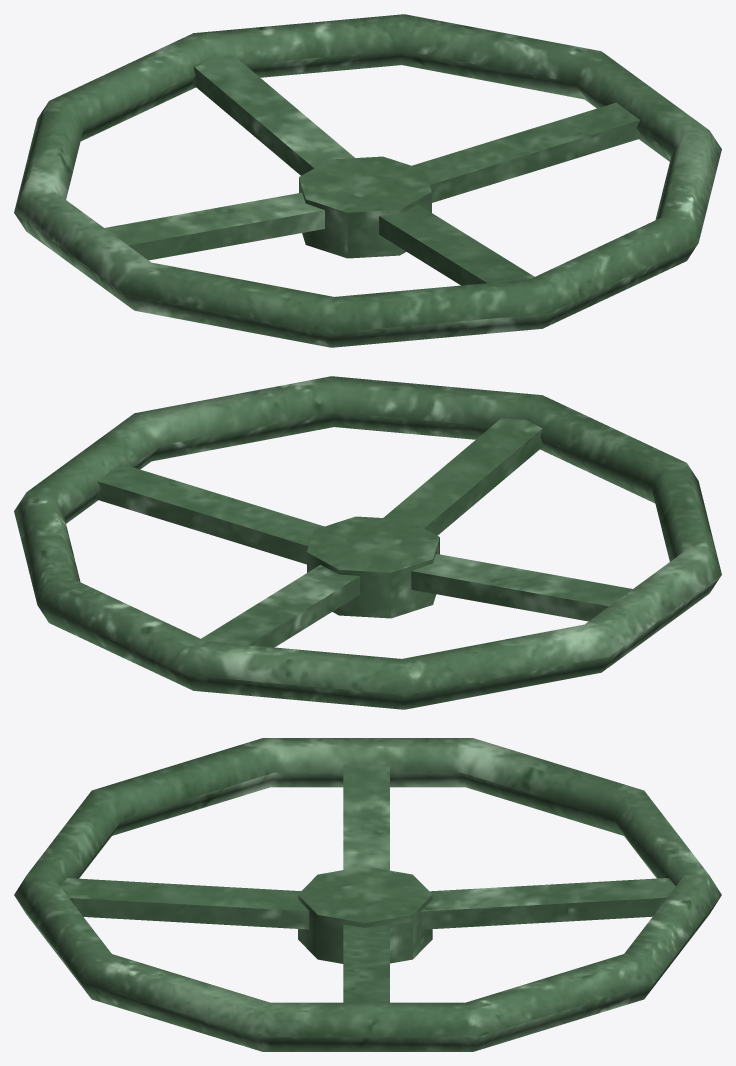
Rendered from wheel_green.FBX.
3 views of the same model, one above another, from view 1: azimuth 30°, elevation 25°; view 2: azimuth 150°, elevation 25°; view 3: azimuth 270°, elevation 25° (orthographic). The views are drawn at different scales.
Visible parts, largest first — view 1: Cylinder028; view 2: Cylinder028; view 3: Cylinder028.
Boxes of the visible parts, x1,y1,x2,y2 form: Cylinder028: [14, 14, 721, 347]; Cylinder028: [14, 376, 721, 709]; Cylinder028: [14, 738, 721, 1051].
Bounding box in the file's own units: 36.95 × 4 × 38.85.
